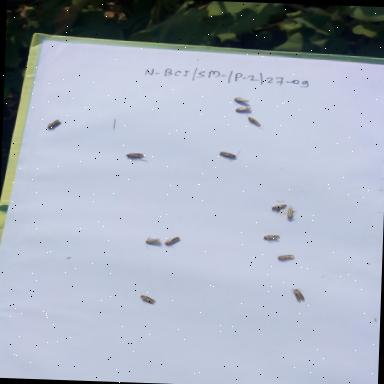pbw: (48, 115, 66, 133), (244, 112, 264, 128), (289, 286, 306, 303), (218, 148, 242, 160), (143, 234, 161, 250), (260, 231, 284, 242), (162, 235, 182, 248), (138, 293, 157, 305), (284, 206, 298, 222), (276, 252, 296, 263), (231, 95, 251, 105), (269, 202, 287, 213), (124, 152, 147, 160), (234, 105, 254, 113)
